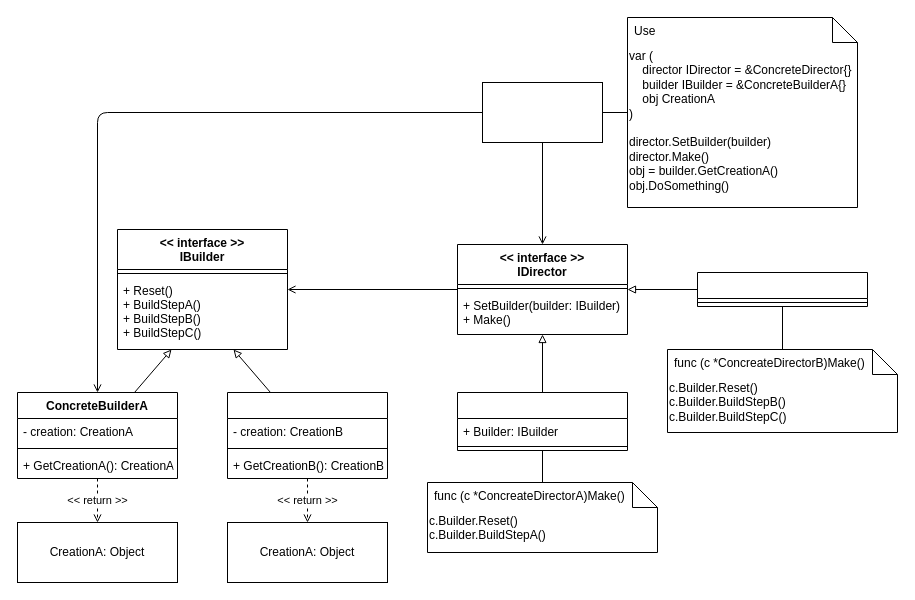
This 915x600 diagram has some shape labels left out. Each missing label, with the box of its shape:
client: (482, 82, 602, 142)
ConcreteBuilderB: (226, 392, 388, 478)
ConcreteDirectorA: (456, 392, 628, 450)
ConcreteDirectorB: (696, 272, 868, 306)
